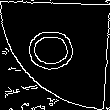O_E: (26, 31, 84, 79)
